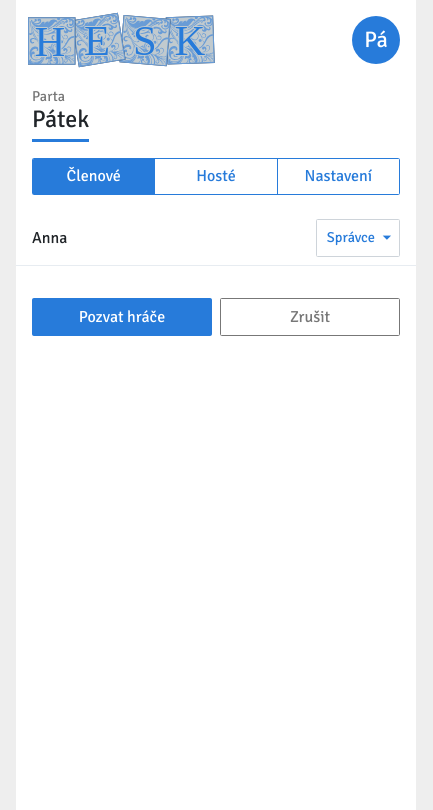
it: App gating › moves the party management page under the newly selected party
Expected: the heading "Parta Pátek" is shown, x1=32 y1=88 x2=89 y2=142
Click the button with aria-label "Menu – Pátek": point(376, 40) x1=352 y1=16 x2=400 y2=64
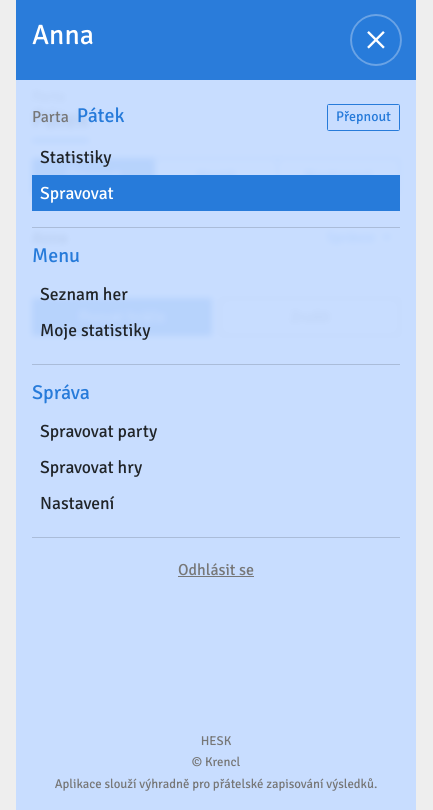
Click the button "Přepnout": point(364, 117) x1=327 y1=104 x2=400 y2=131
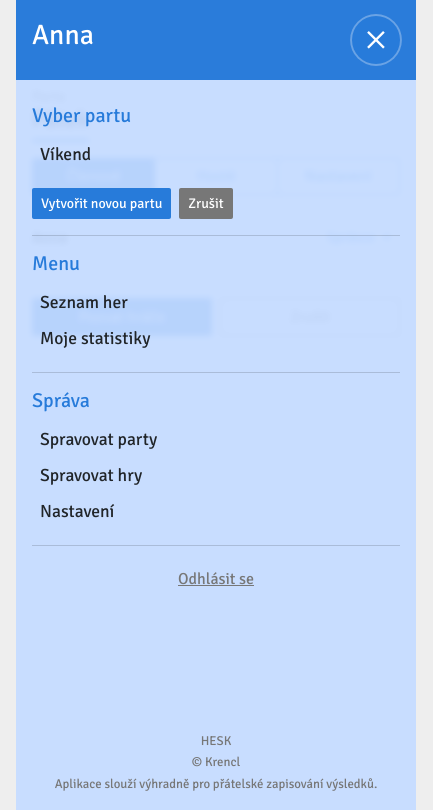
Click the button "Víkend": point(66, 154) x1=32 y1=136 x2=400 y2=172
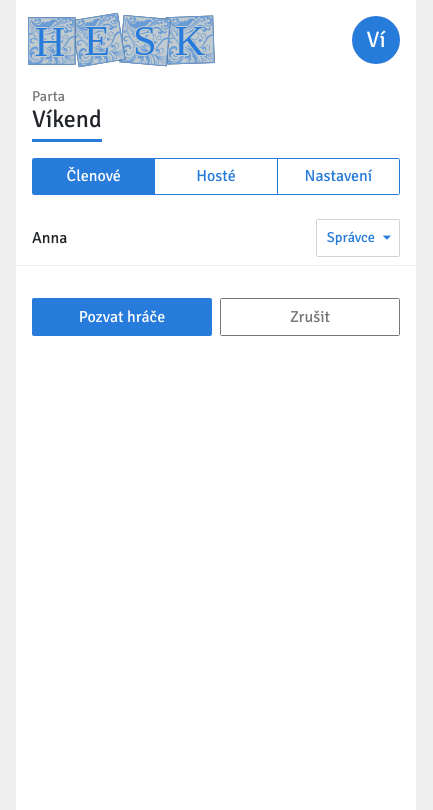
Expected: the heading "Parta Víkend" is shown, x1=32 y1=88 x2=102 y2=142
